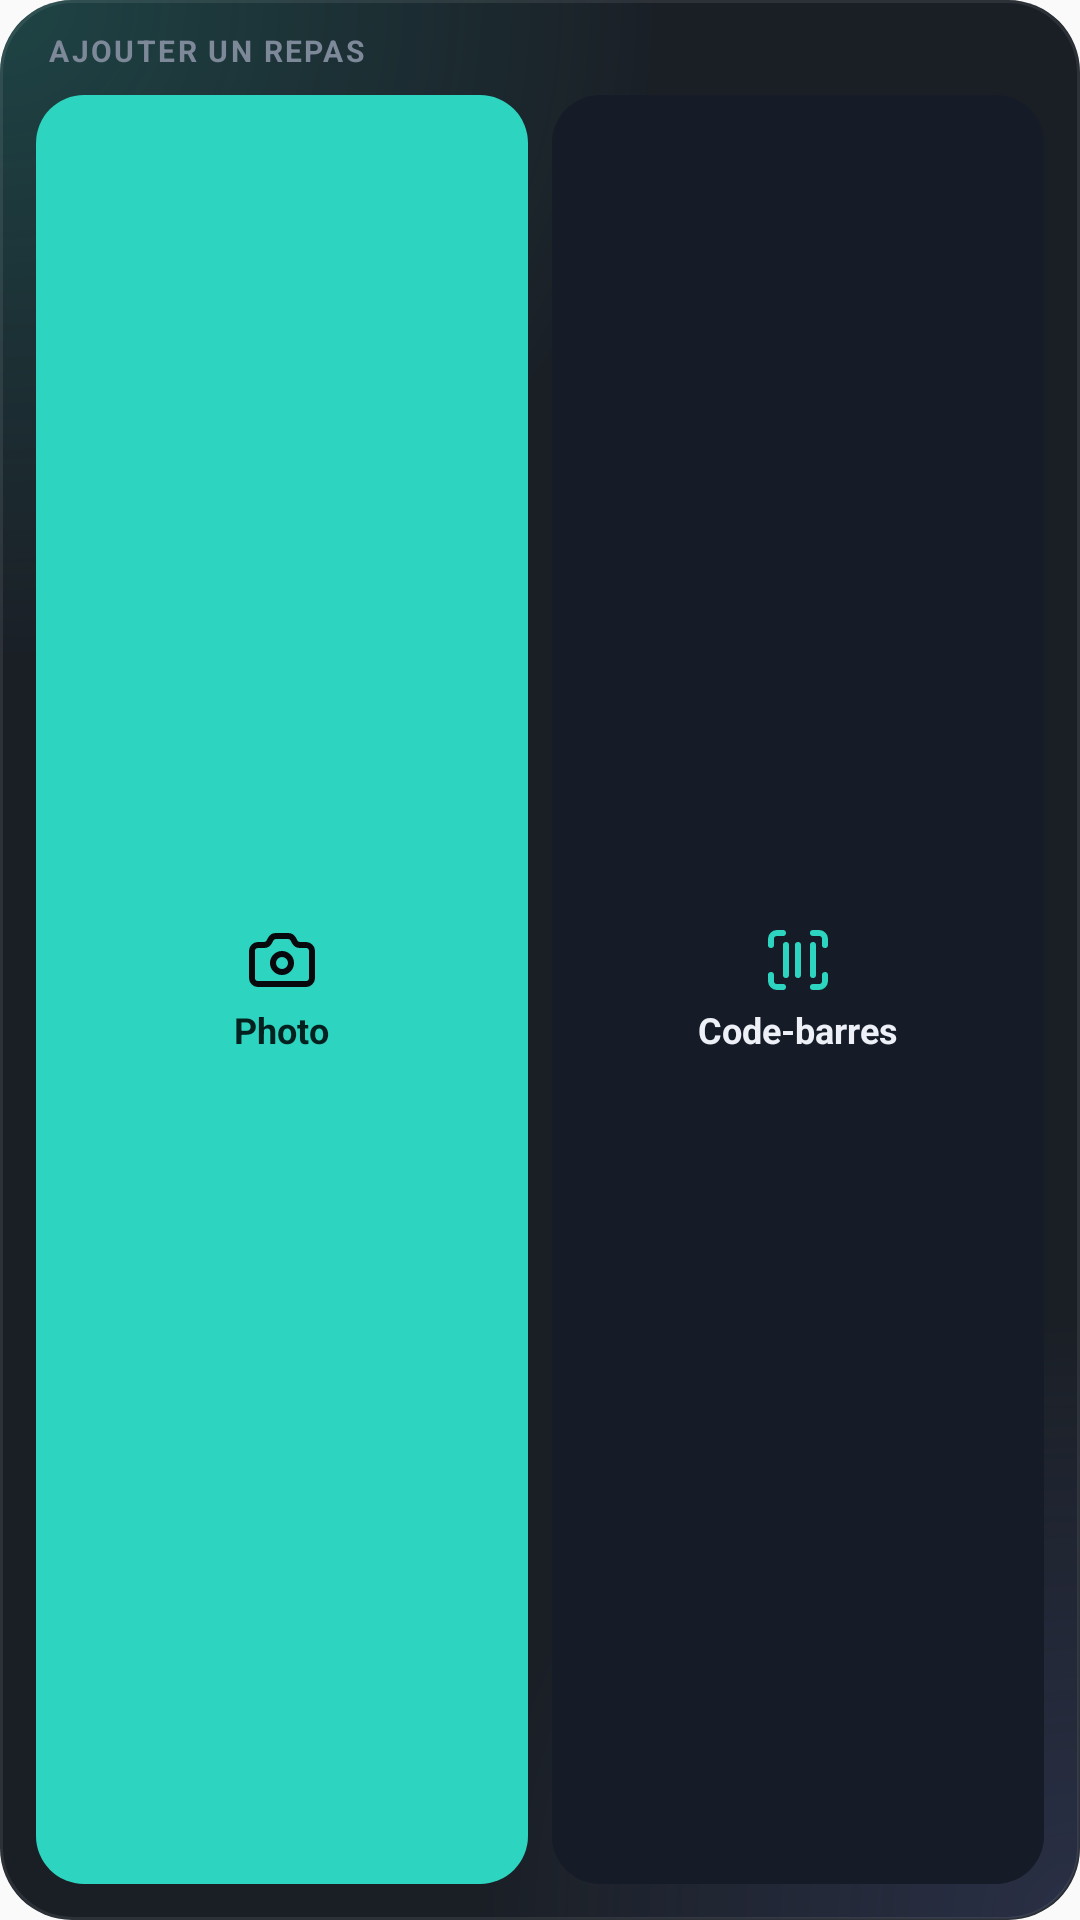

Screen size 1080×1920. Icon name, then its center in pixels as [x,y]:
camera: [282,960]
scan: [798,960]
